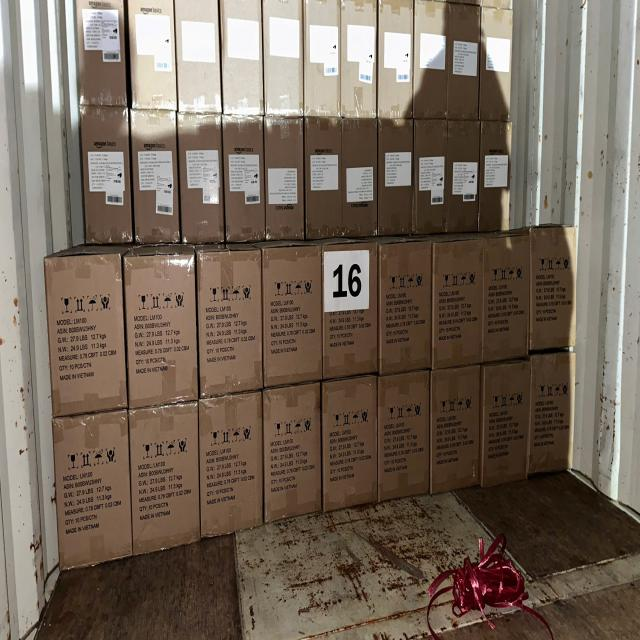Carton: (45, 253, 127, 414), (51, 414, 133, 563), (124, 255, 200, 406), (129, 408, 201, 552), (195, 248, 262, 389), (196, 393, 262, 528), (262, 246, 324, 382), (263, 388, 323, 516), (322, 246, 379, 378), (78, 106, 130, 250), (322, 378, 379, 504), (378, 242, 430, 370), (434, 238, 486, 364), (380, 373, 432, 495), (132, 111, 178, 247), (430, 370, 480, 490), (180, 116, 226, 246), (482, 234, 528, 357), (533, 228, 579, 351), (482, 363, 528, 484), (222, 117, 264, 245), (74, 0, 125, 105), (128, 0, 176, 110), (178, 0, 223, 112), (265, 118, 305, 242), (221, 2, 263, 118), (262, 0, 304, 115), (533, 355, 574, 472), (304, 118, 341, 239), (302, 0, 340, 115), (341, 0, 378, 118), (380, 0, 416, 116), (380, 120, 416, 234), (343, 122, 378, 239), (413, 0, 447, 116), (414, 120, 447, 234), (447, 4, 479, 118), (482, 9, 514, 123), (446, 121, 478, 234), (481, 122, 513, 232)
